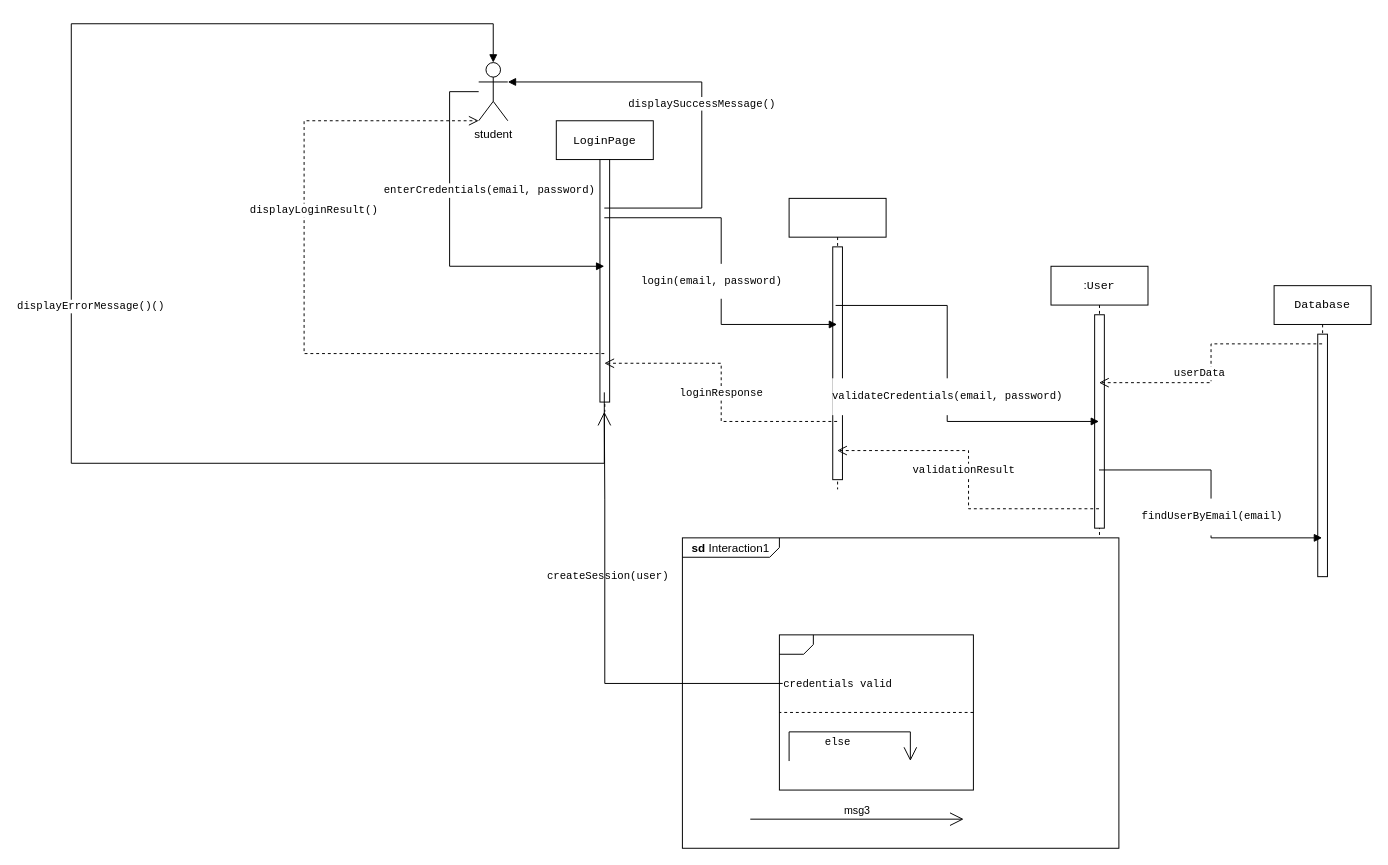
The diagram is 1388 pixels wide and 865 high, and some of its shapes have lost their labels. Here are the shapes that lost their labels. From the top down, the box of each, then its label:
(788, 197, 886, 489): AuthController
(778, 634, 973, 790): alt
